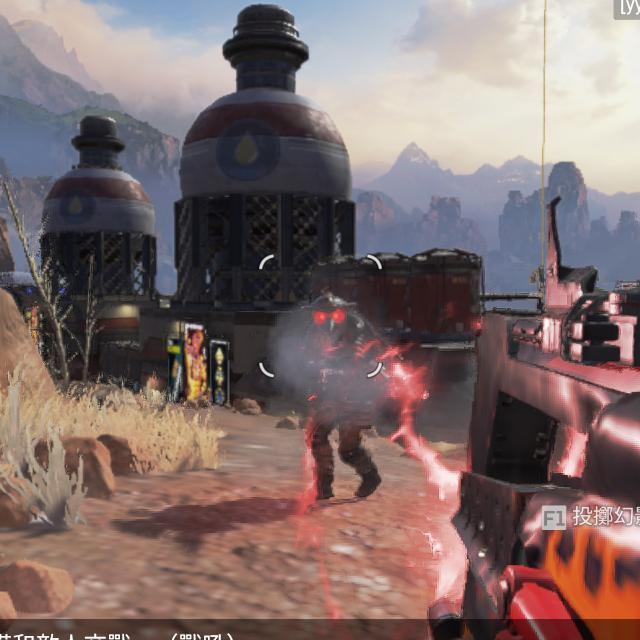avatar: (298, 291, 389, 500)
